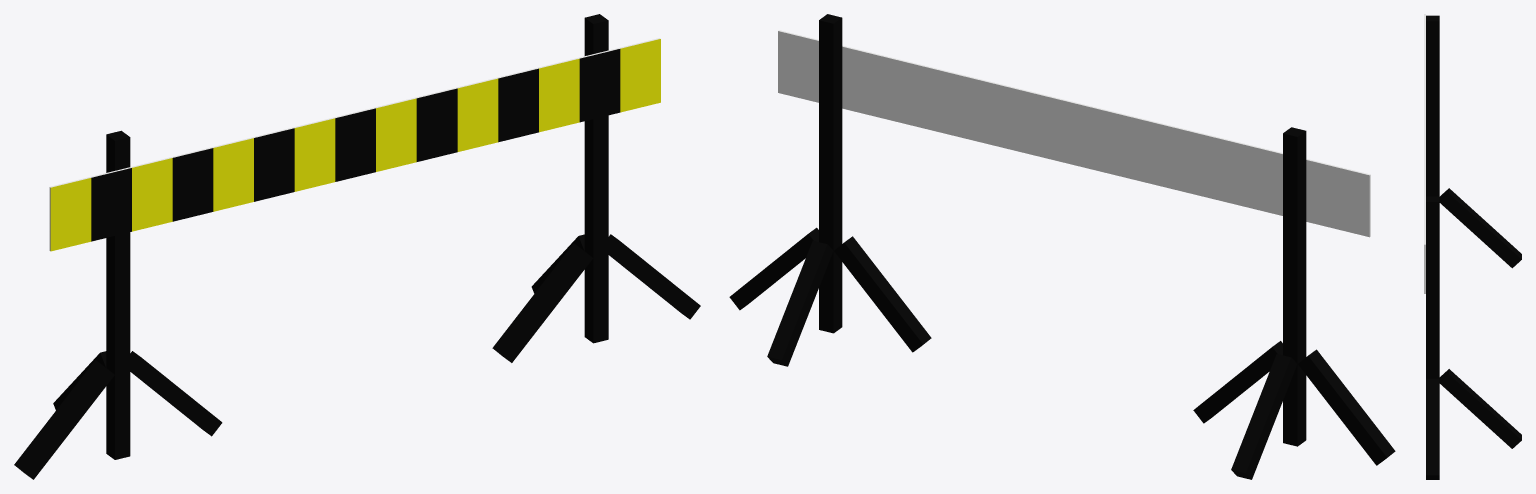
Rendered from trafik_levha_engel.obj.
3 renders of one model, left to right at view 1: azimuth 30°, elevation 25°; view 2: azimuth 150°, elevation 25°; view 3: azimuth 270°, elevation 25°, orthographic. The views are drawn at different scales.
Parts seen in each view (by area): view 1: Mesh1 Group2 Group1 Model, Mesh2 Group3 Group1 Model, Mesh6 Group4 Group1 Model, Mesh5 Group4 Group1 Model, Mesh3 Group3 Group1 Model; view 2: Mesh1 Group2 Group1 Model, Mesh6 Group4 Group1 Model, Mesh2 Group3 Group1 Model, Mesh7 Group4 Group1 Model, Mesh4 Group3 Group1 Model, Mesh3 Group3 Group1 Model, Mesh5 Group4 Group1 Model; view 3: Mesh6 Group4 Group1 Model, Mesh2 Group3 Group1 Model, Mesh7 Group4 Group1 Model, Mesh4 Group3 Group1 Model, Mesh5 Group4 Group1 Model, Mesh1 Group2 Group1 Model.
Boxes of the visible parts, x1,y1,x2,y2 form: Mesh1 Group2 Group1 Model: [49, 38, 660, 251]; Mesh2 Group3 Group1 Model: [14, 130, 130, 479]; Mesh6 Group4 Group1 Model: [492, 14, 608, 362]; Mesh5 Group4 Group1 Model: [608, 234, 700, 319]; Mesh3 Group3 Group1 Model: [130, 351, 222, 436]; Mesh1 Group2 Group1 Model: [778, 30, 1370, 237]; Mesh6 Group4 Group1 Model: [819, 14, 931, 352]; Mesh2 Group3 Group1 Model: [1283, 127, 1395, 465]; Mesh7 Group4 Group1 Model: [767, 241, 833, 366]; Mesh4 Group3 Group1 Model: [1231, 354, 1297, 479]; Mesh3 Group3 Group1 Model: [1193, 341, 1282, 423]; Mesh5 Group4 Group1 Model: [729, 227, 818, 310]; Mesh6 Group4 Group1 Model: [1426, 196, 1439, 378]; Mesh2 Group3 Group1 Model: [1426, 15, 1439, 196]; Mesh7 Group4 Group1 Model: [1439, 369, 1521, 448]; Mesh4 Group3 Group1 Model: [1439, 188, 1521, 268]; Mesh5 Group4 Group1 Model: [1426, 378, 1439, 479]; Mesh1 Group2 Group1 Model: [1424, 14, 1425, 293].
Size of the model in its own units: 3334 by 1500 by 538.
